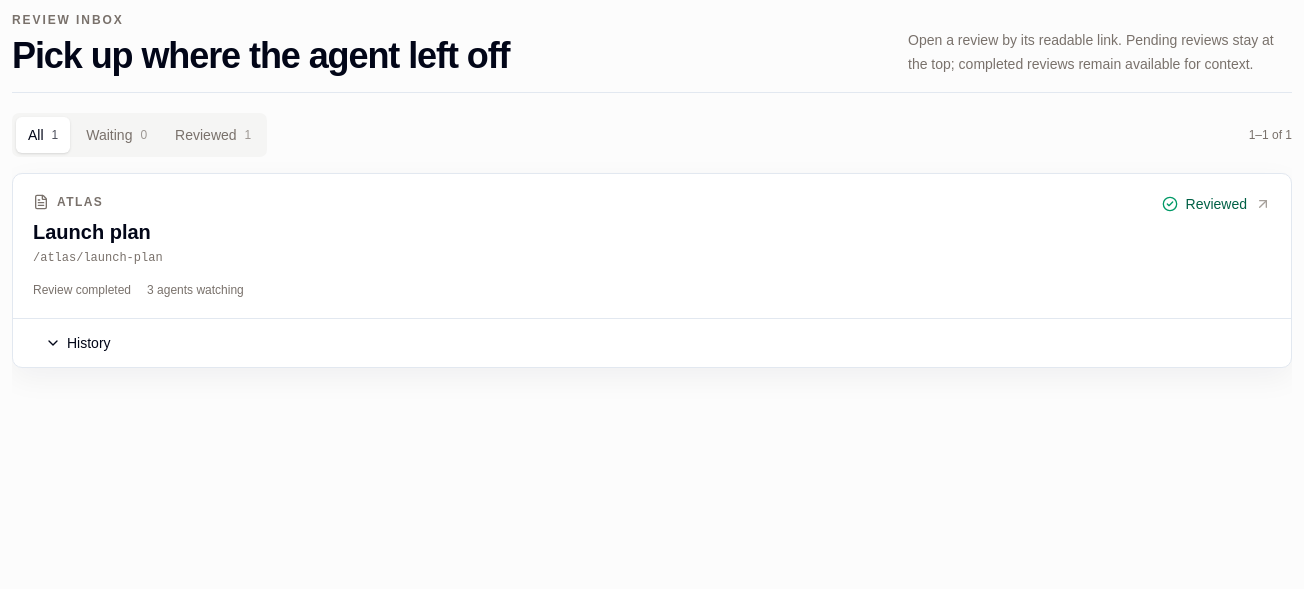
Test: ReviewHome review history › expands and collapses an accessible panel without replacing or nesting the direct link
The image size is (1304, 589).
Click the button "History".
click(78, 343)  # box x1=33 y1=327 x2=123 y2=359
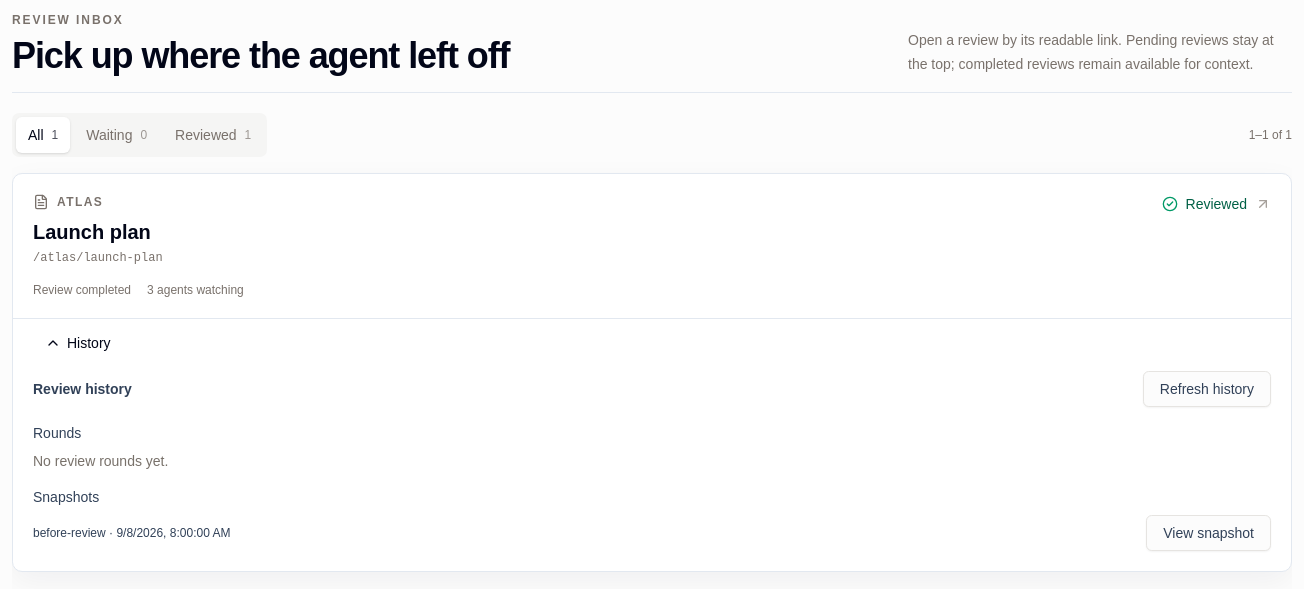
Now the button "History" is expanded
Click the button "History".
click(78, 343)  # box x1=33 y1=327 x2=123 y2=359
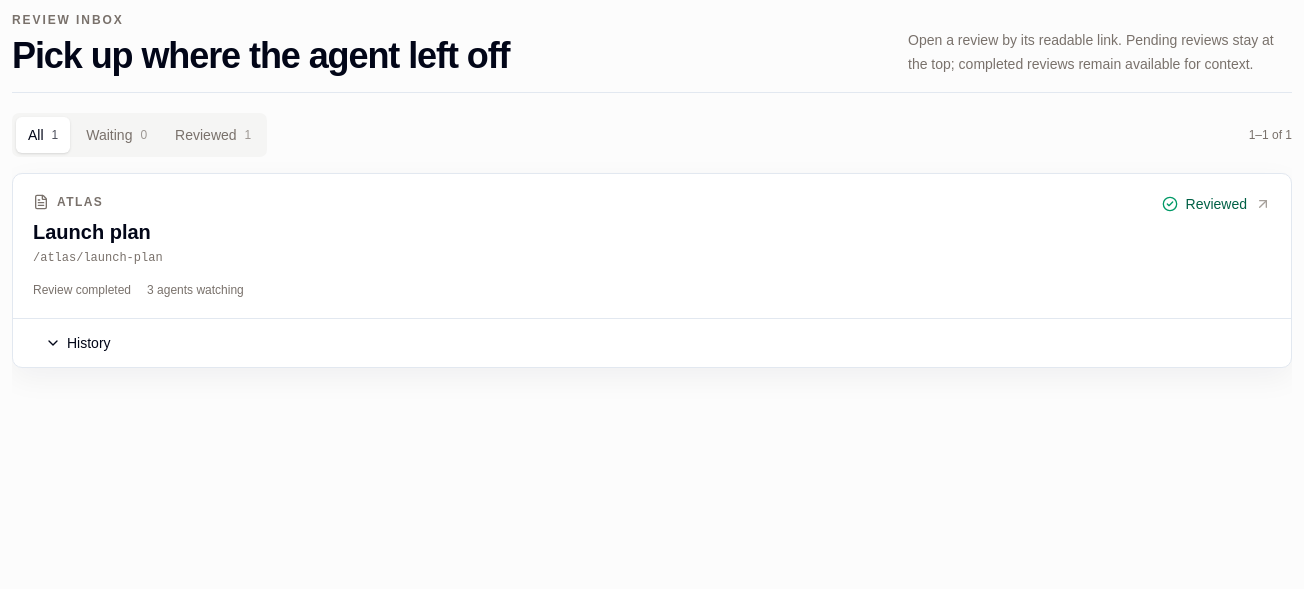
Now the button "History" is collapsed, box x1=33 y1=327 x2=123 y2=359
